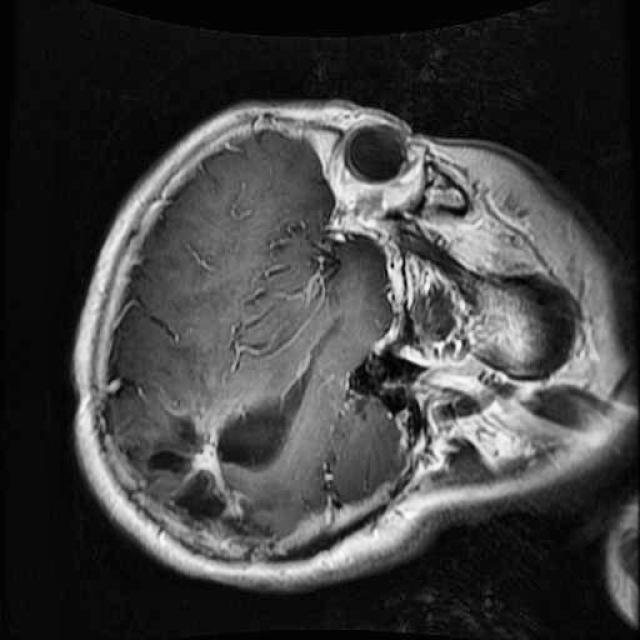Non-Tumor: (129, 369, 326, 564)
